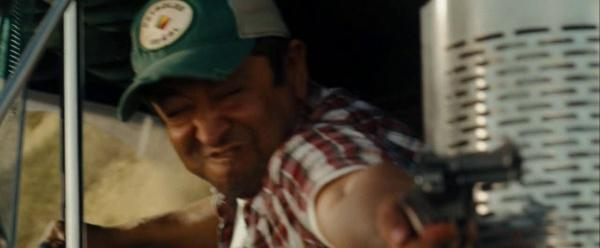Gun: (402, 141, 522, 244)
